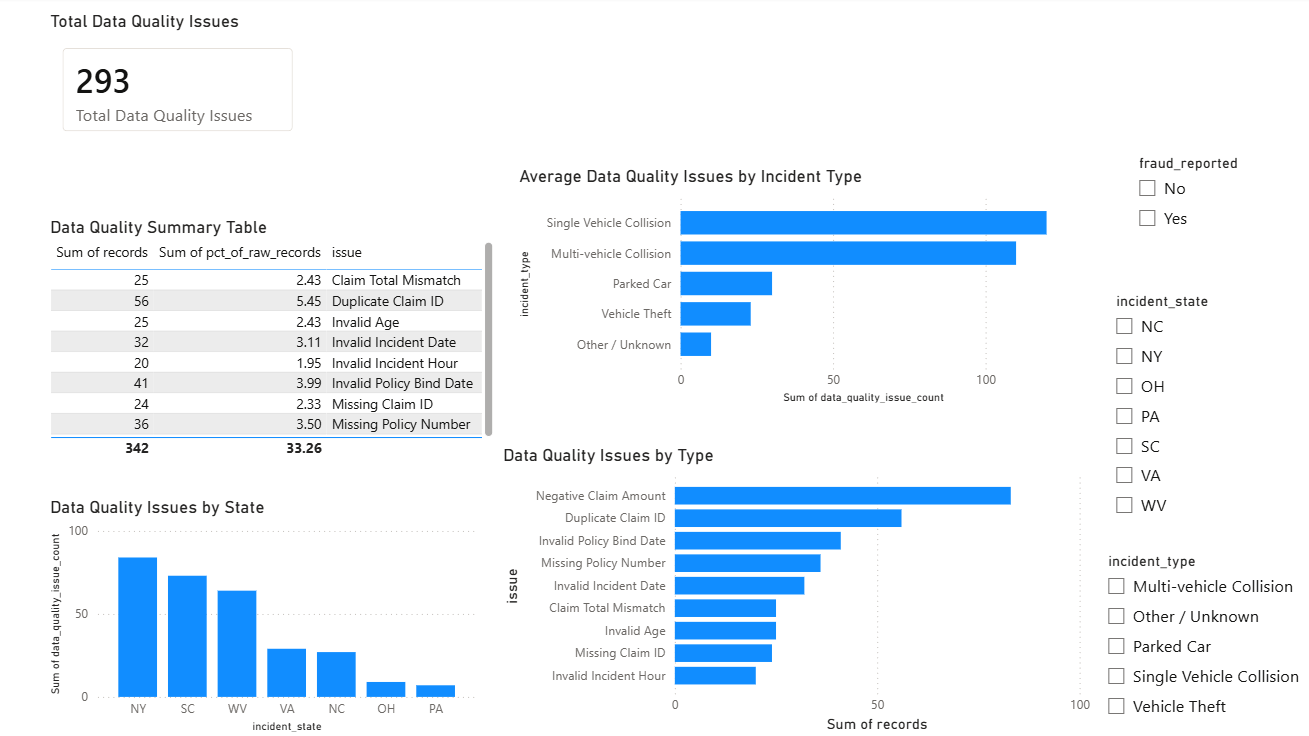

Layout of this report page (visuals, bound fields, positions):
{"tool":"powerbi","page":{"name":"Data Quality Audit","canvas":[1280,720],"ordinal":1},"visuals":[{"type":"cardVisual","title":"Total Data Quality Issues","fields":{"Data":["Claims.Total Data Quality Issues"]},"box":[49.6,13.6,258.7,134.2],"z":0},{"type":"clusteredBarChart","title":"Data Quality Issues by Type","fields":{"Category":["DataQuality.issue"],"Y":["Sum(DataQuality.records)"]},"box":[490.2,435.7,580.7,284],"z":1},{"type":"tableEx","title":"Data Quality Summary Table","fields":{"Values":["Sum(DataQuality.records)","Sum(DataQuality.pct_of_raw_records)","DataQuality.issue"]},"box":[49.6,214,440.6,239.3],"z":2},{"type":"clusteredColumnChart","title":"Data Quality Issues by State","fields":{"Y":["Sum(Claims.data_quality_issue_count)"],"Category":["Claims.incident_state"]},"box":[49.6,486.3,424.1,233.4],"z":3},{"type":"clusteredBarChart","title":"Average Data Quality Issues by Incident Type","fields":{"Category":["Claims.incident_type"],"Y":["Sum(Claims.data_quality_issue_count)"]},"box":[505.8,164.4,533,235.4],"z":4},{"type":"slicer","fields":{"Values":["Claims.incident_state"]},"box":[1078.7,282.1,201.3,235.4],"z":5},{"type":"slicer","fields":{"Values":["Claims.incident_type"]},"box":[1070.9,535,209.1,178],"z":6},{"type":"slicer","fields":{"Values":["Claims.fraud_reported"]},"box":[1101,147.8,132.3,92.4],"z":7}]}

Visuals, with their boxes in screenshot pixels (x1, y1, x2, y2), scaled from the page's 1280x720 canvas onto the 1309x736 screenshot:
"Total Data Quality Issues" cardVisual: rect(51, 14, 315, 151)
"Data Quality Issues by Type" clusteredBarChart: rect(501, 445, 1095, 735)
"Data Quality Summary Table" tableEx: rect(51, 219, 501, 463)
"Data Quality Issues by State" clusteredColumnChart: rect(51, 497, 484, 735)
"Average Data Quality Issues by Incident Type" clusteredBarChart: rect(517, 168, 1062, 409)
slicer - Claims.incident_state: rect(1103, 288, 1308, 529)
slicer - Claims.incident_type: rect(1095, 547, 1308, 729)
slicer - Claims.fraud_reported: rect(1126, 151, 1261, 246)
